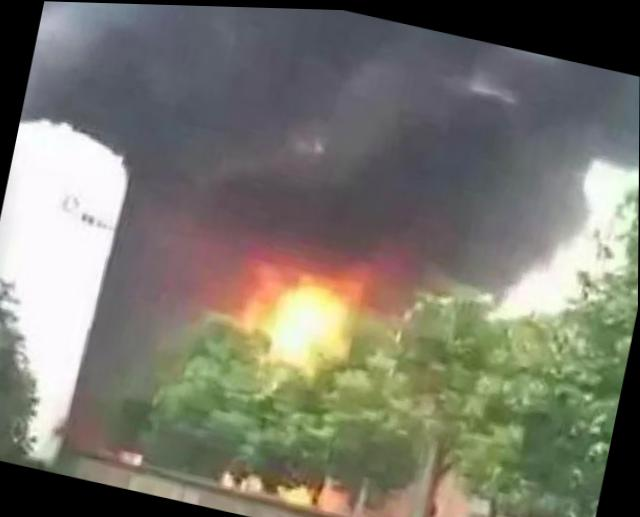fire: (265, 269, 356, 369)
